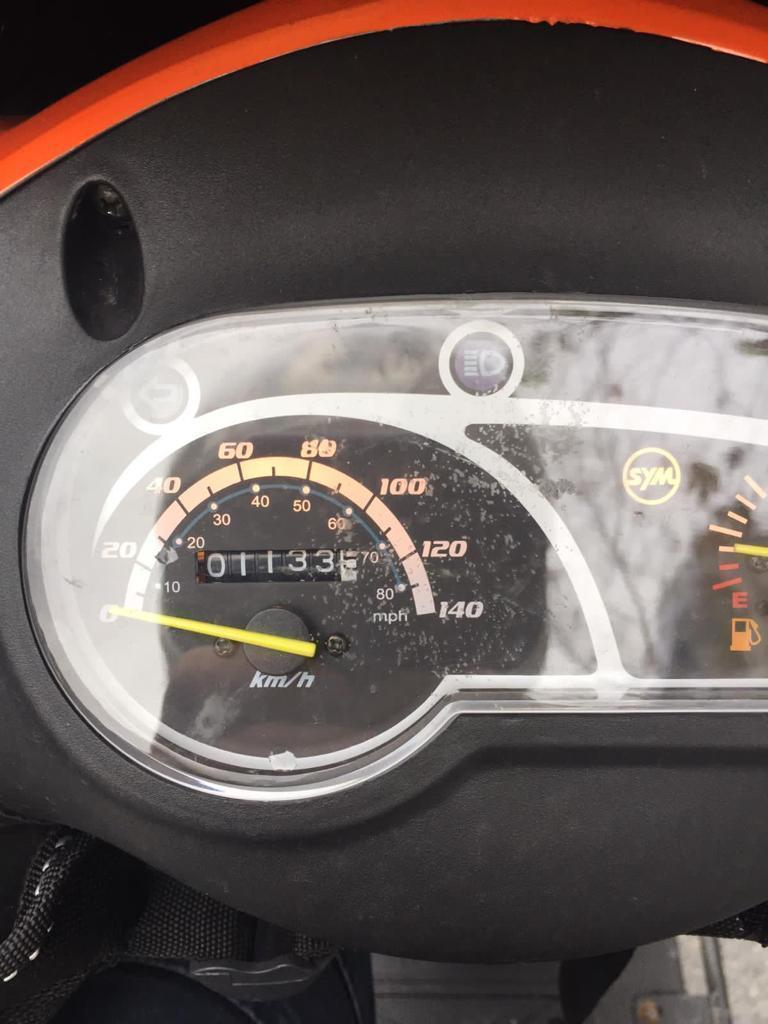0: (205, 551, 226, 579)
1: (236, 549, 249, 577), (263, 548, 275, 578)
3: (312, 547, 334, 575), (286, 547, 308, 574)
5: (341, 548, 359, 575)
odometer: (188, 545, 360, 587)
